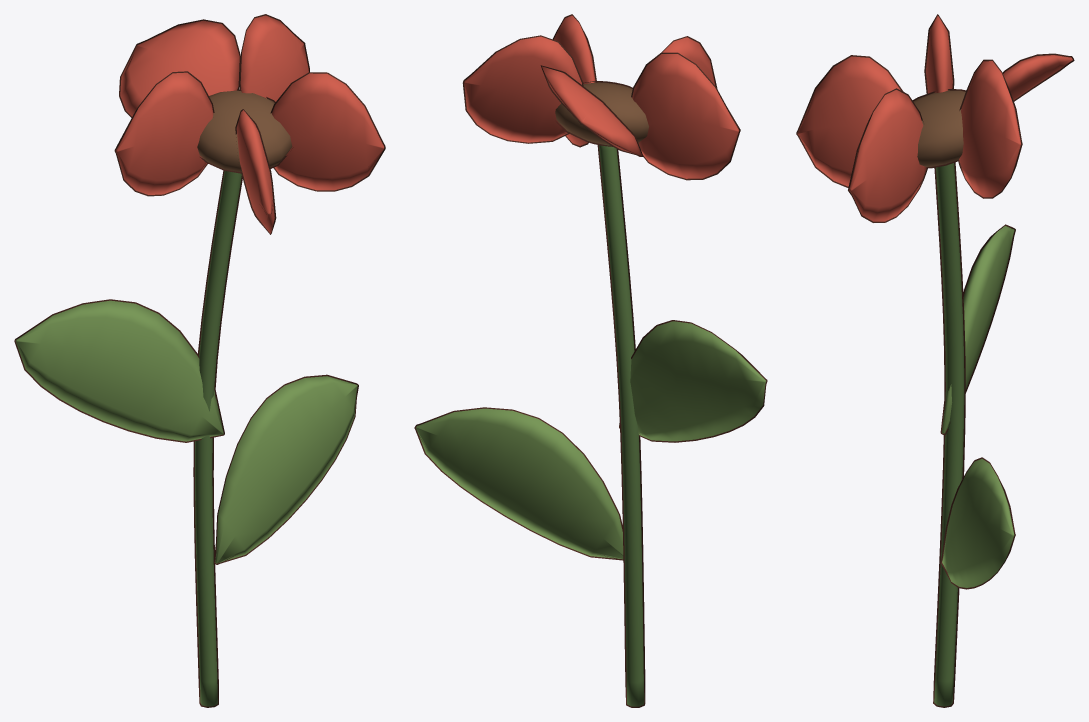
File: mohn.glb
3 renders of one model, left to right at view 1: azimuth 30°, elevation 25°; view 2: azimuth 150°, elevation 25°; view 3: azimuth 270°, elevation 25°, orthographic. The views are drawn at different scales.
Visible parts, largest first — view 1: Plant_Plant_Leaf, Plant_Plant_Blossom, Stem, Flower_Centre, Outline_Plant_Plant_Blossom, Outline_Stem, Outline_Plant_Plant_Leaf; view 2: Plant_Plant_Leaf, Plant_Plant_Blossom, Stem, Flower_Centre, Outline_Stem, Outline_Plant_Plant_Blossom, Outline_Plant_Plant_Leaf; view 3: Plant_Plant_Blossom, Plant_Plant_Leaf, Stem, Flower_Centre, Outline_Plant_Plant_Blossom, Outline_Stem, Outline_Plant_Plant_Leaf.
Part boxes in pixels (x1,y1,x2,y2): Plant_Plant_Leaf: (15, 300, 357, 563); Plant_Plant_Blossom: (116, 15, 384, 233); Stem: (195, 171, 241, 706); Flower_Centre: (197, 90, 292, 172); Outline_Plant_Plant_Blossom: (114, 14, 385, 234); Outline_Stem: (193, 170, 242, 707); Outline_Plant_Plant_Leaf: (14, 299, 358, 564); Plant_Plant_Leaf: (416, 321, 766, 559); Plant_Plant_Blossom: (464, 15, 739, 178); Stem: (599, 144, 644, 706); Flower_Centre: (555, 82, 648, 145); Outline_Stem: (597, 145, 645, 707); Outline_Plant_Plant_Blossom: (462, 14, 740, 180); Outline_Plant_Plant_Leaf: (414, 320, 767, 560); Plant_Plant_Blossom: (797, 15, 1072, 221); Plant_Plant_Leaf: (942, 226, 1014, 587); Stem: (934, 163, 964, 706); Flower_Centre: (913, 90, 965, 166); Outline_Plant_Plant_Blossom: (796, 14, 1074, 222); Outline_Stem: (933, 162, 965, 707); Outline_Plant_Plant_Leaf: (940, 224, 1015, 589).
Size of the model in its own units: 0.3867 by 0.7022 by 0.2607.
